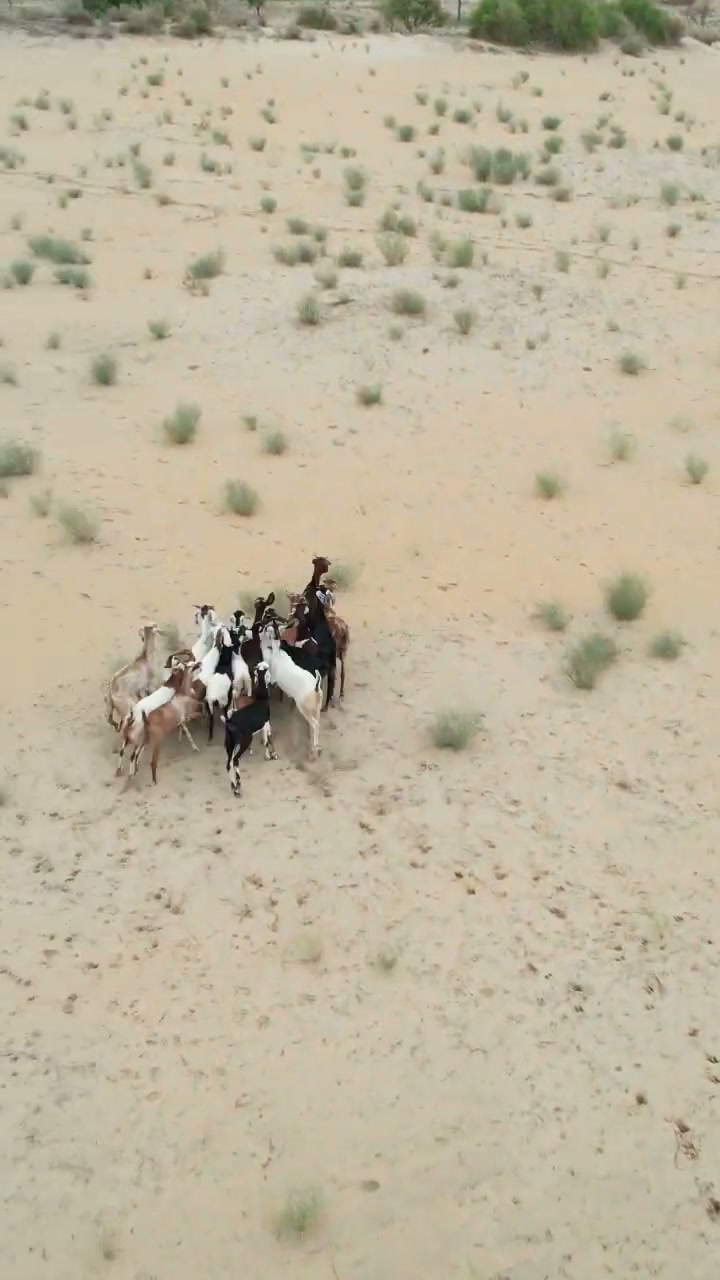animal_footprint: (0, 722, 719, 1279)
